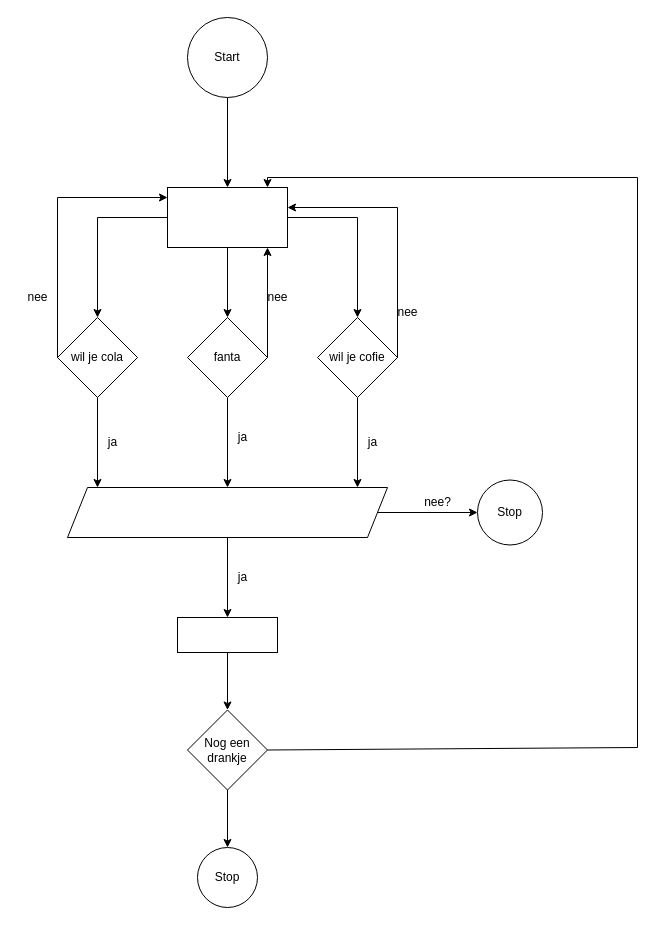
Some shapes in this 656 by 925 pixel diagram are drawn without their labels. The centre of each missing label's shape, as x and y in pixels:
"betalen" goes at point (227, 512).
"kies een drankje" goes at point (227, 217).
"maak drankje" goes at point (227, 634).
